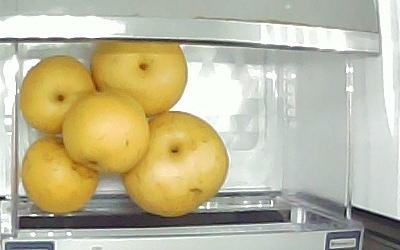pear: (120, 110, 230, 218), (62, 92, 150, 173), (90, 44, 189, 114), (20, 56, 97, 134), (22, 137, 100, 214)
